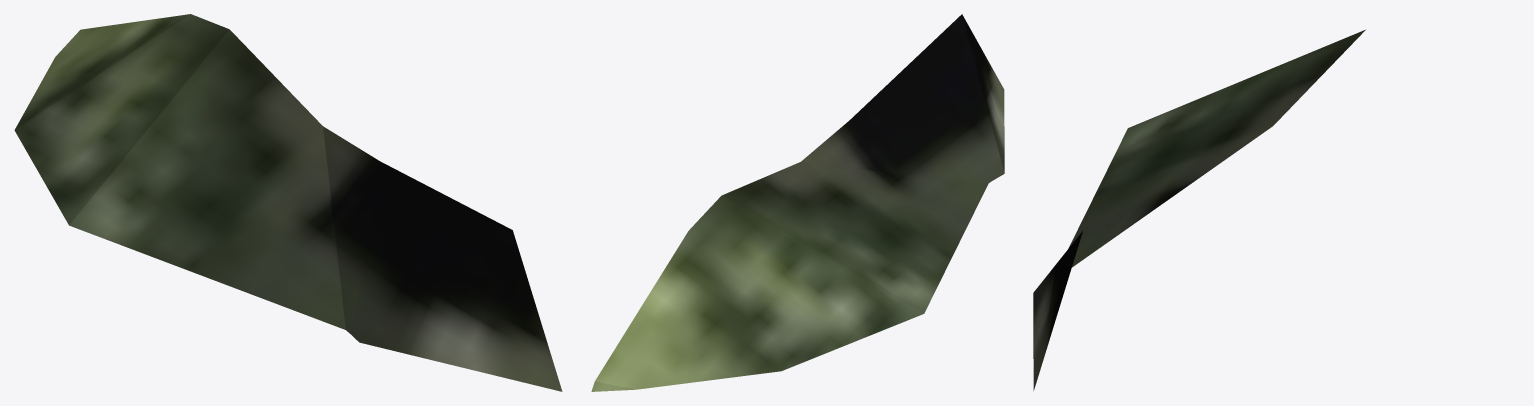
3 views of the same model, side by side, from view 1: azimuth 30°, elevation 25°; view 2: azimuth 150°, elevation 25°; view 3: azimuth 330°, elevation 25° (orthographic). The views are drawn at different scales.
Size of the model in its own units: 2.7 by 1.62 by 11.41.
Materials: 1 (1 with a texture image).
